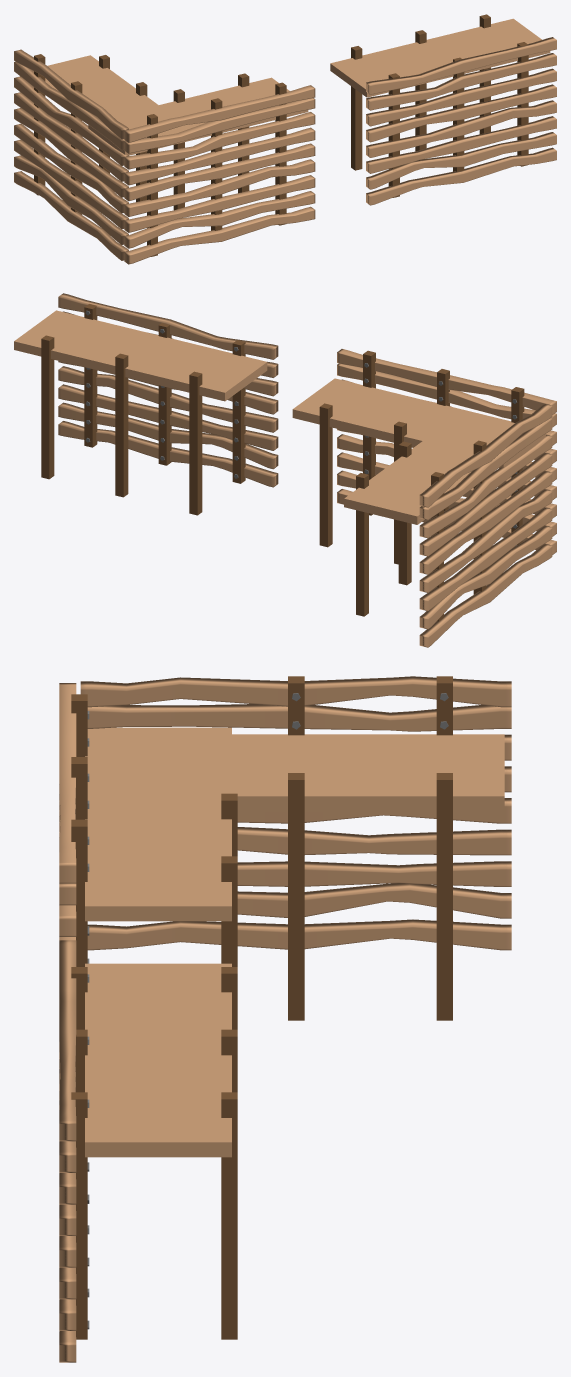
File: State_Boarder_Walls_1.fbx
The picture shows the model from 3 angles, top to bottom: view 1: azimuth 30°, elevation 25°; view 2: azimuth 150°, elevation 25°; view 3: azimuth 270°, elevation 25°; orthographic projection. The views are drawn at different scales.
Parts seen in each view (by area): view 1: Fence.005, Fence.001; view 2: Fence.005, Fence.001; view 3: Fence.005, Fence.001.
Boxes of the visible parts, x1,y1,x2,y2 form: Fence.005: [14, 49, 315, 264]; Fence.001: [330, 14, 556, 205]; Fence.005: [292, 349, 556, 647]; Fence.001: [14, 293, 278, 515]; Fence.005: [59, 676, 511, 1020]; Fence.001: [59, 940, 237, 1362].
Bounding box in the file's own units: 1085 × 334 × 495.
